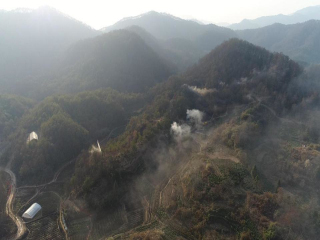smoke: (169, 107, 210, 145), (182, 82, 217, 96)
